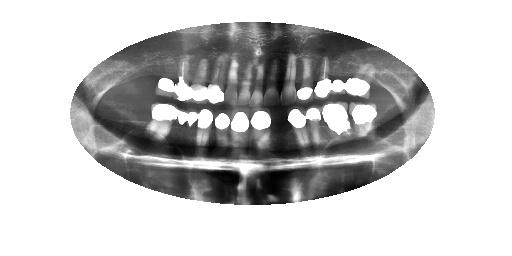i10healthy: (210, 104, 232, 163)
i11healthy: (190, 104, 214, 159)
i12loss: (164, 103, 201, 163)
i13healthy: (137, 95, 178, 152)
i3healthy: (346, 94, 380, 144)
i4healthy: (318, 97, 352, 147)
i5healthy: (303, 98, 323, 151)
i6healthy: (283, 99, 313, 158)
i7loss: (267, 103, 294, 160)
i8healthy: (246, 100, 276, 168)
i9healthy: (226, 103, 251, 161)
u10healthy: (221, 49, 242, 110)
u11healthy: (205, 51, 230, 108)
u12healthy: (186, 50, 210, 106)
u13healthy: (172, 50, 196, 104)
u14healthy: (151, 60, 178, 104)
u2healthy: (344, 52, 376, 103)
u3healthy: (328, 52, 349, 100)
u4healthy: (313, 49, 335, 105)
u5healthy: (294, 47, 315, 106)
u6healthy: (276, 47, 299, 108)
u7healthy: (263, 51, 280, 112)
u8healthy: (246, 58, 266, 108)
u9healthy: (237, 54, 254, 111)
